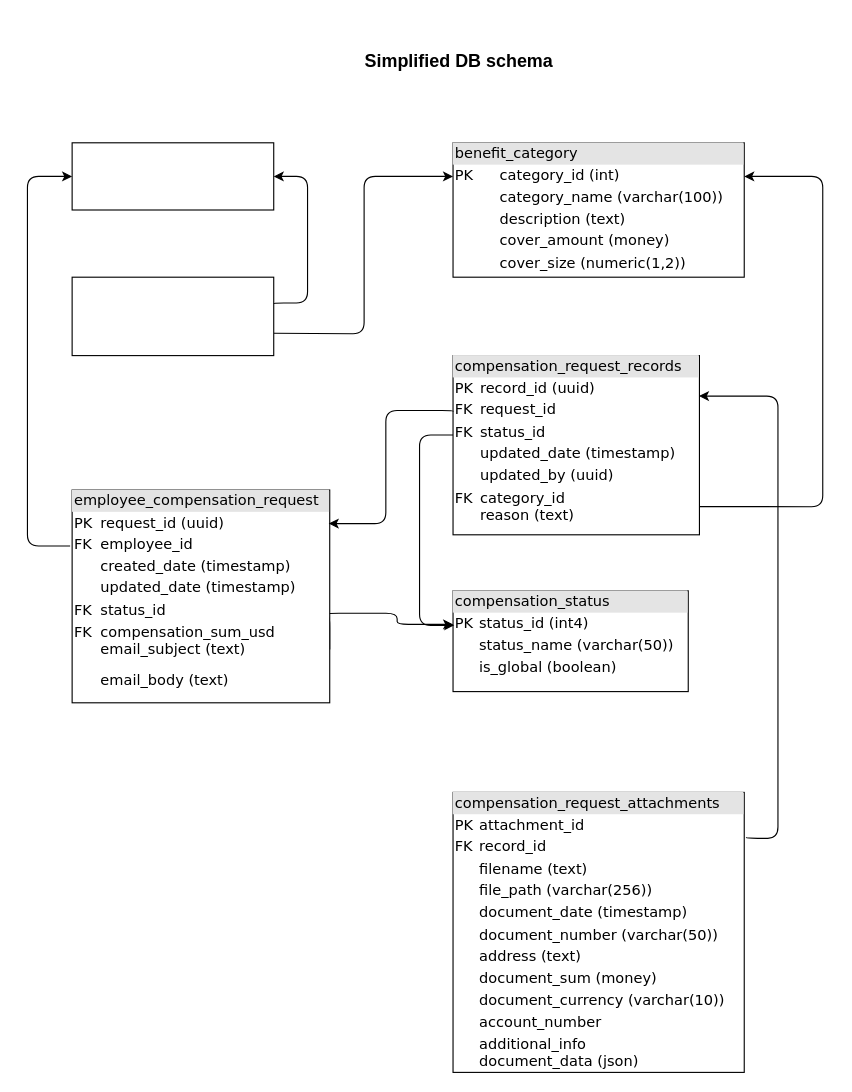
Some shapes in this 852 by 1092 pixel diagram are drawn without their labels. The shapes that lost their labels are listed below. From the top down, each one's centre as x and y in pixels, then its label:
At pixel 172 176: "employee PK employee_id (uuid) email (varchar(256))".
At pixel 172 316: "employee_package_set FK employee_id FK category_id".
